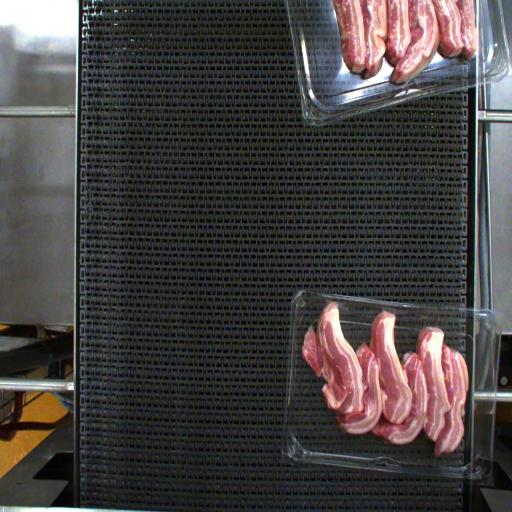packaging-error: (312, 290, 345, 314), (376, 299, 402, 321)
